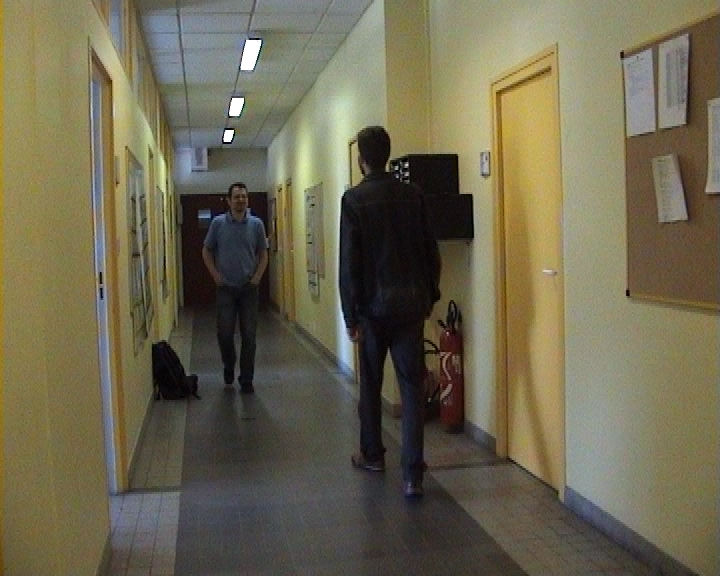leave bag unattended: (133, 273, 332, 462)
